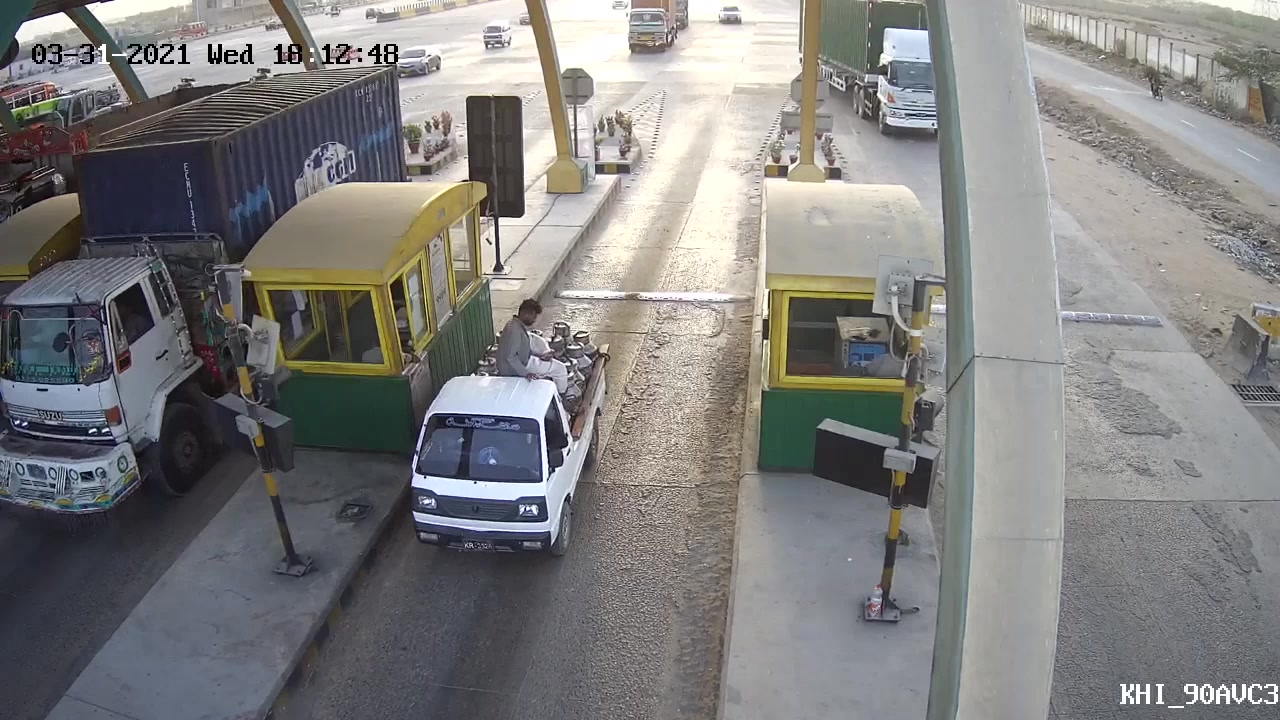F1: (387, 298, 624, 563)
